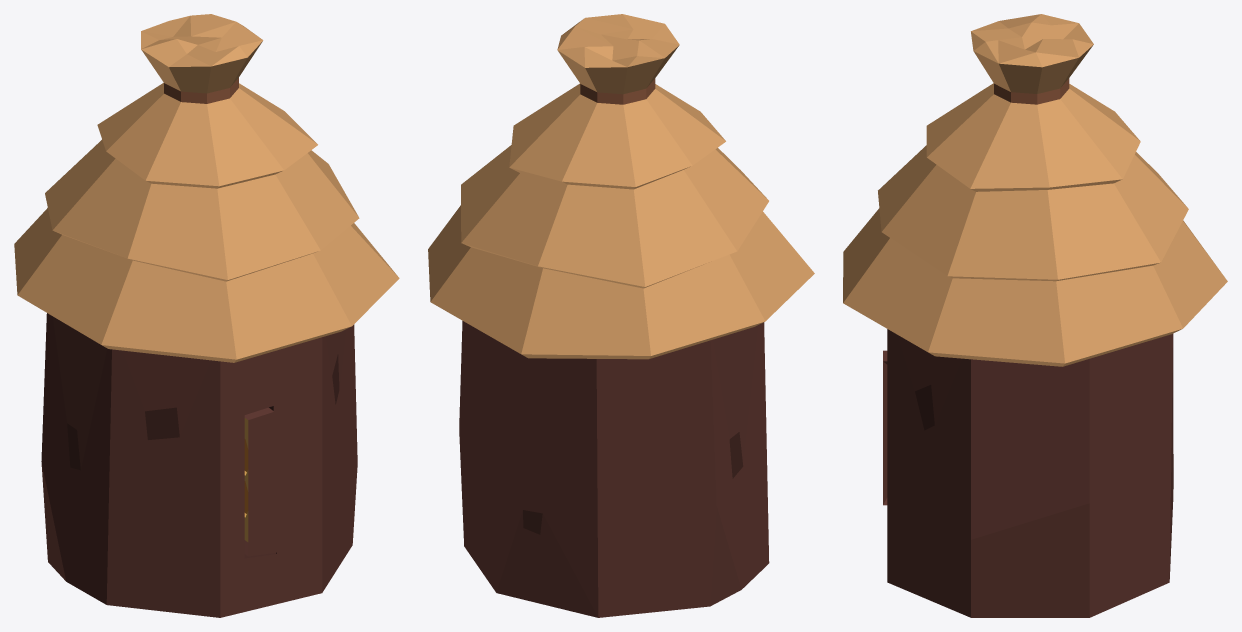
Rendered from beehive_with_honycombs.fbx.
The picture shows the model from 3 angles, left to right: view 1: azimuth 30°, elevation 25°; view 2: azimuth 150°, elevation 25°; view 3: azimuth 270°, elevation 25°; orthographic projection.
Visible parts, largest first — view 1: beehive, honeycombs_in_frame; view 2: beehive; view 3: beehive, honeycombs_in_frame.
Part boxes in pixels (left/top/right/bottom): beehive: left=14, top=14, right=399, bottom=617; honeycombs_in_frame: left=244, top=407, right=277, bottom=556; beehive: left=428, top=14, right=814, bottom=617; beehive: left=843, top=14, right=1227, bottom=617; honeycombs_in_frame: left=883, top=350, right=887, bottom=505.
Bounding box in the file's own units: 58.2 × 85.88 × 57.15.
